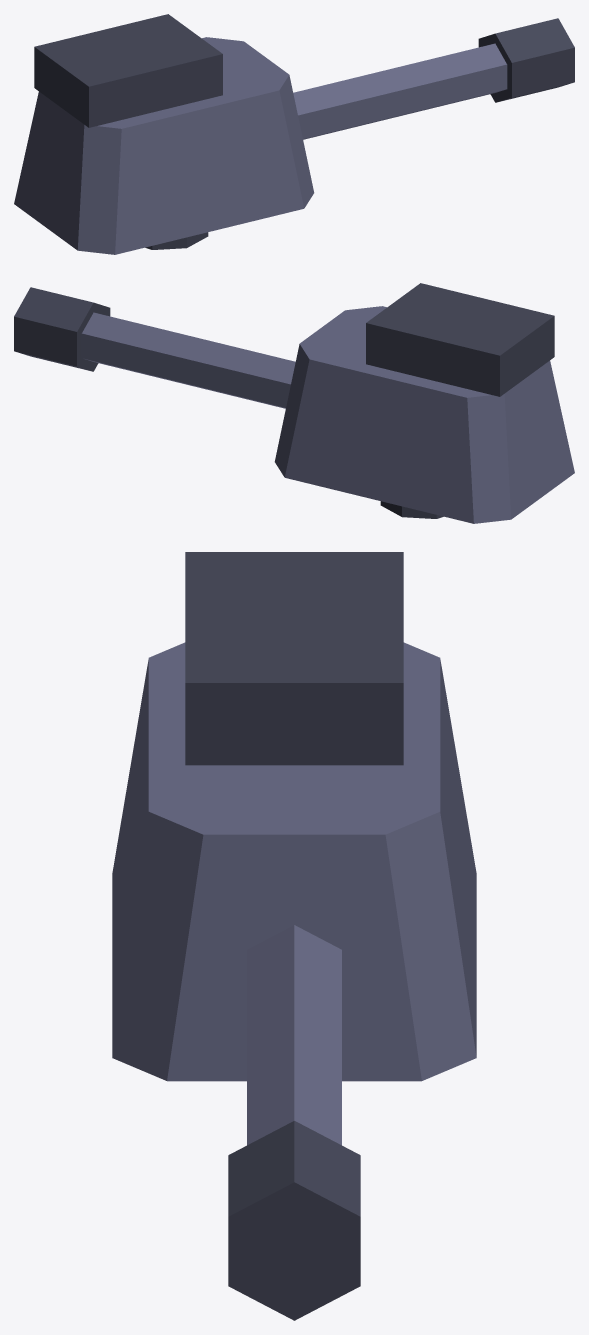
Rendered from vge_defender_gun.obj.
The picture shows the model from 3 angles, top to bottom: view 1: azimuth 30°, elevation 25°; view 2: azimuth 150°, elevation 25°; view 3: azimuth 270°, elevation 25°; orthographic projection. The views are drawn at different scales.
Parts seen in each view (by area): view 1: ancient_armored_turret_gun_0, ancient_armored_turret_gun_1, ancient_armored_turret_gun_2, ancient_armored_turret_gun_3, ancient_armored_turret_gun_4; view 2: ancient_armored_turret_gun_0, ancient_armored_turret_gun_1, ancient_armored_turret_gun_2, ancient_armored_turret_gun_3, ancient_armored_turret_gun_4; view 3: ancient_armored_turret_gun_0, ancient_armored_turret_gun_1, ancient_armored_turret_gun_3, ancient_armored_turret_gun_2.
Part boxes in pixels (box(x1,y1,x2,y2)): ancient_armored_turret_gun_0: box(14, 37, 314, 254); ancient_armored_turret_gun_1: box(34, 14, 222, 127); ancient_armored_turret_gun_2: box(293, 43, 507, 139); ancient_armored_turret_gun_3: box(478, 18, 574, 102); ancient_armored_turret_gun_4: box(145, 232, 208, 249); ancient_armored_turret_gun_0: box(274, 306, 574, 523); ancient_armored_turret_gun_1: box(366, 283, 554, 396); ancient_armored_turret_gun_2: box(81, 312, 295, 408); ancient_armored_turret_gun_3: box(14, 287, 110, 371); ancient_armored_turret_gun_4: box(380, 501, 443, 518); ancient_armored_turret_gun_0: box(112, 642, 476, 1081); ancient_armored_turret_gun_1: box(185, 552, 403, 765); ancient_armored_turret_gun_3: box(228, 1121, 360, 1320); ancient_armored_turret_gun_2: box(247, 925, 341, 1145).
Size of the model in its own units: 0.65 by 0.23 by 0.2.
